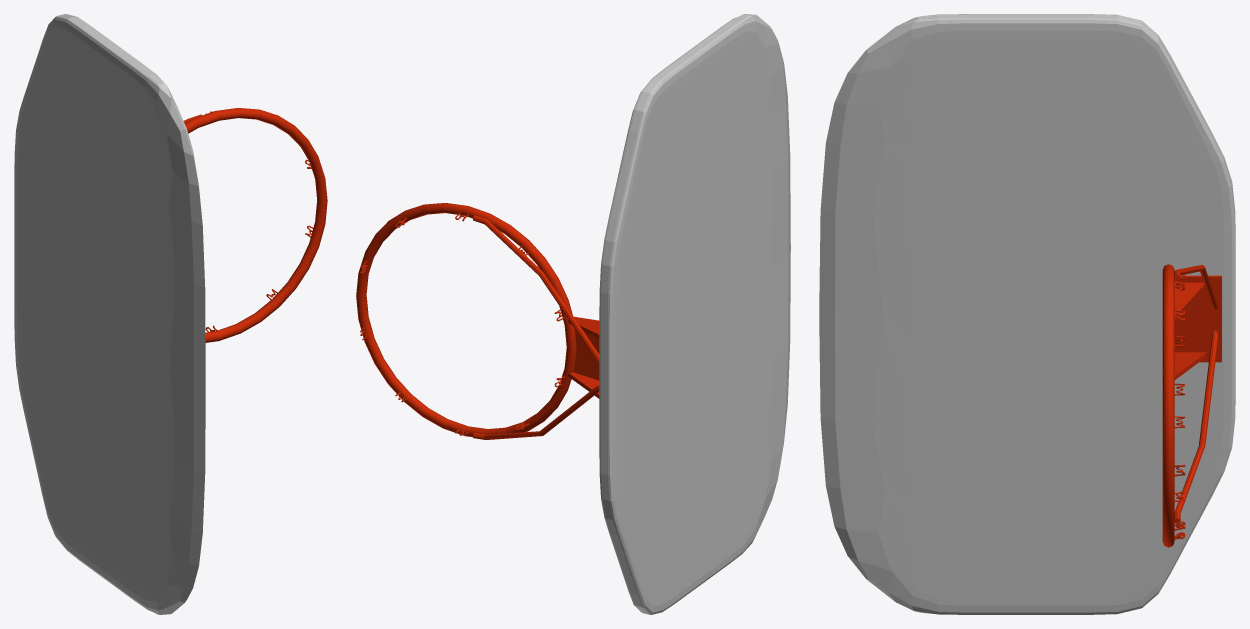
File: basketball_net_and_board.obj
3 renders of one model, left to right at view 1: azimuth 30°, elevation 25°; view 2: azimuth 150°, elevation 25°; view 3: azimuth 270°, elevation 25°, orthographic. The views are drawn at different scales.
Parts seen in each view (by area): view 1: Cube, BezierCircle_Mesh; view 2: Cube, BezierCircle_Mesh, Cube.001; view 3: Cube, Cube.001, BezierCircle_Mesh, Circle.
Part boxes in pixels (x1,y1,x2,y2): Cube: [14, 14, 205, 614]; BezierCircle_Mesh: [184, 108, 327, 342]; Cube: [599, 14, 790, 614]; BezierCircle_Mesh: [356, 203, 576, 437]; Cube.001: [472, 215, 599, 439]; Cube: [819, 14, 1235, 614]; Cube.001: [1174, 265, 1221, 523]; BezierCircle_Mesh: [1162, 264, 1174, 547]; Circle: [1174, 274, 1185, 539].
Size of the model in its own units: 60.86 by 109 by 69.03.
